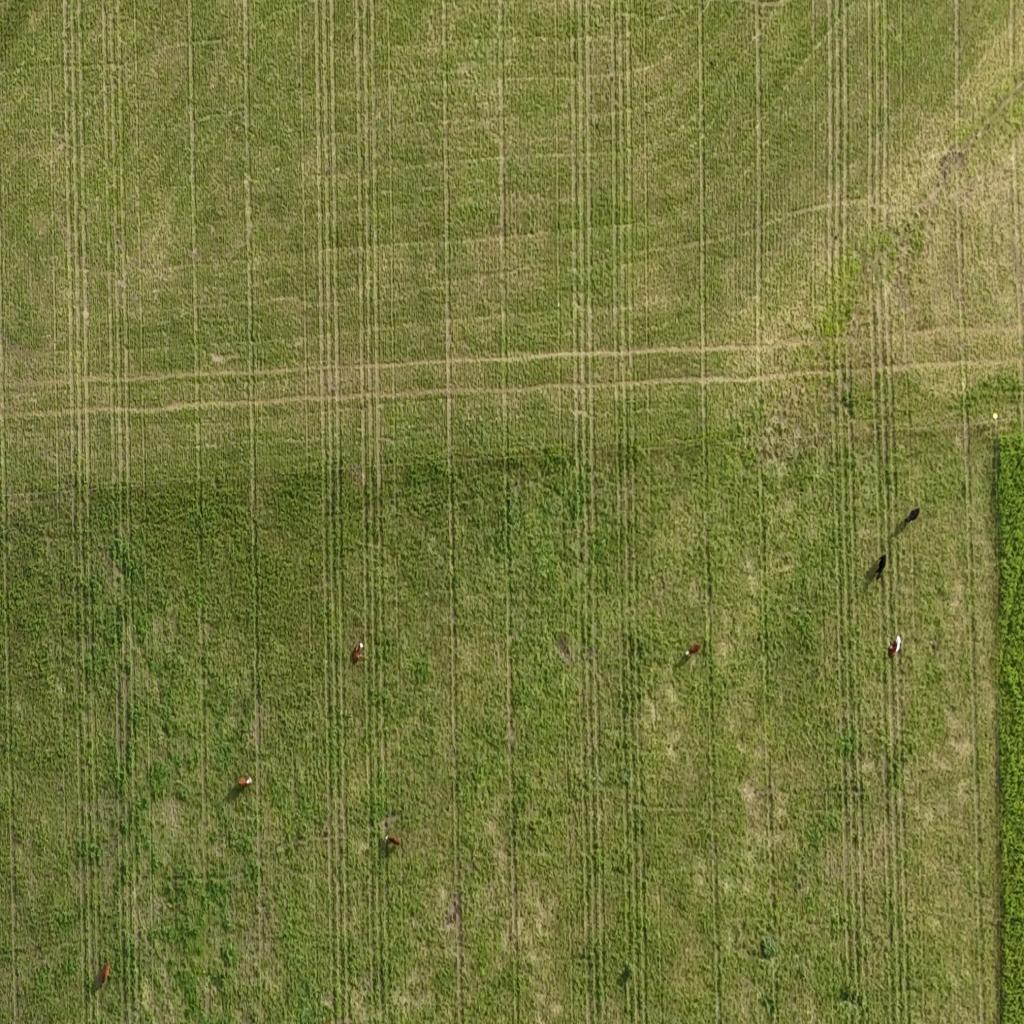cow: (679, 640, 701, 665), (871, 555, 888, 585), (888, 632, 904, 660), (350, 641, 365, 667), (98, 962, 111, 988), (385, 834, 401, 850), (237, 775, 252, 790), (909, 506, 920, 525)
